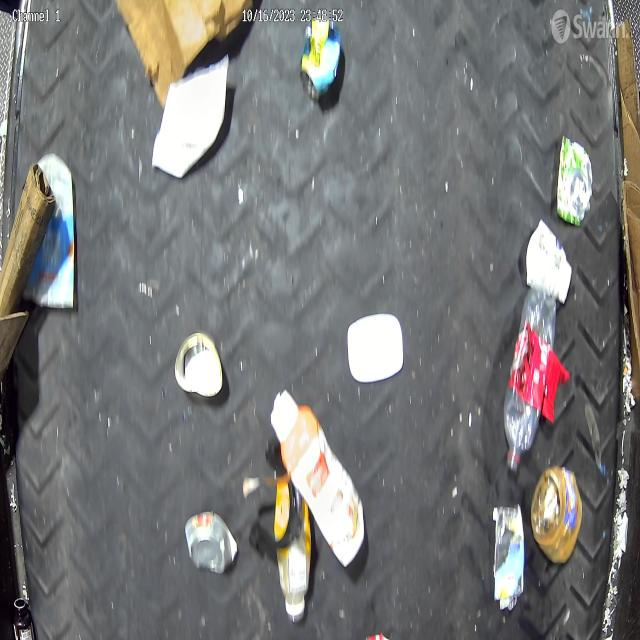can: (185, 508, 238, 576), (300, 19, 341, 101), (557, 136, 593, 226), (175, 334, 222, 399)
plastic_bottle: (504, 286, 557, 474)
